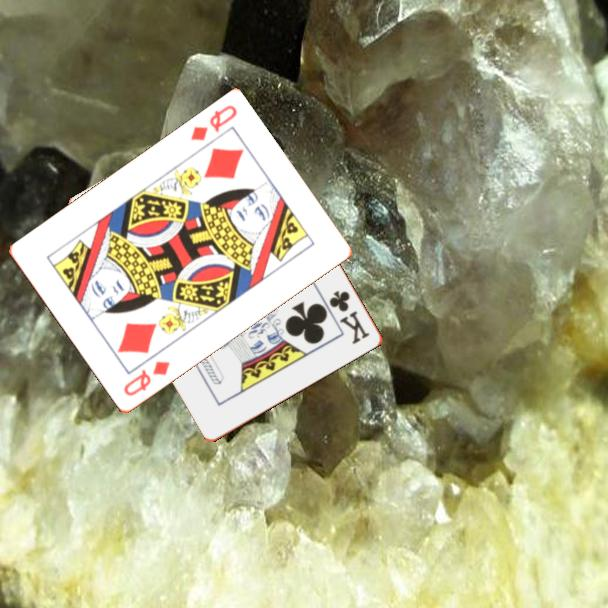c13: (326, 287, 373, 347)
d12: (120, 358, 173, 400), (187, 102, 240, 144)
